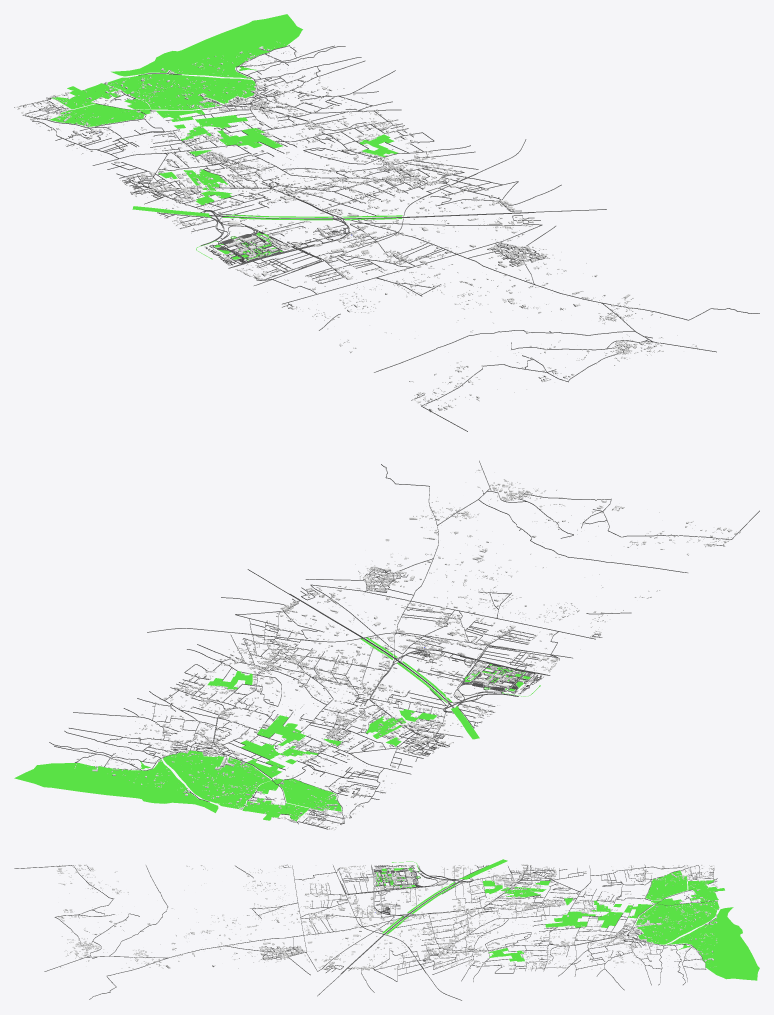
Rendered from damascus_tile_6.glb.
The picture shows the model from 3 angles, top to bottom: view 1: azimuth 30°, elevation 25°; view 2: azimuth 150°, elevation 25°; view 3: azimuth 270°, elevation 25°; orthographic projection. The views are drawn at different scales.
Parts seen in each view (by area): view 1: damascus_tile_6_build, damascus_tile_6_road, damascus_tile_6_grass; view 2: damascus_tile_6_build, damascus_tile_6_grass, damascus_tile_6_road; view 3: damascus_tile_6_build, damascus_tile_6_grass, damascus_tile_6_road.
Part boxes in pixels (<box>): damascus_tile_6_build: <box>14,41,697,413</box>; damascus_tile_6_road: <box>19,45,759,431</box>; damascus_tile_6_grass: <box>49,14,402,260</box>; damascus_tile_6_build: <box>74,468,740,829</box>; damascus_tile_6_grass: <box>14,637,540,821</box>; damascus_tile_6_road: <box>49,460,759,829</box>; damascus_tile_6_build: <box>56,864,717,970</box>; damascus_tile_6_grass: <box>375,859,759,980</box>; damascus_tile_6_road: <box>14,864,718,1000</box>.
Size of the model in its own units: 259 by 1.03 by 578.
